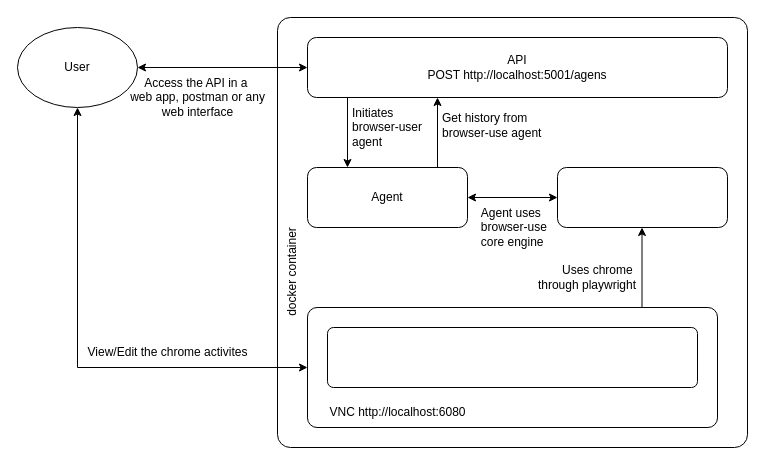
The diagram is 765 pixels wide and 465 high, and some of its shapes have lost their labels. Here are the shapes that lost their labels. From the top down, the centre of each, then its label:
the point at 642,197: Browser-Use
the point at 512,357: chrome http://localhost:9222/json/version (powered by playwright)
